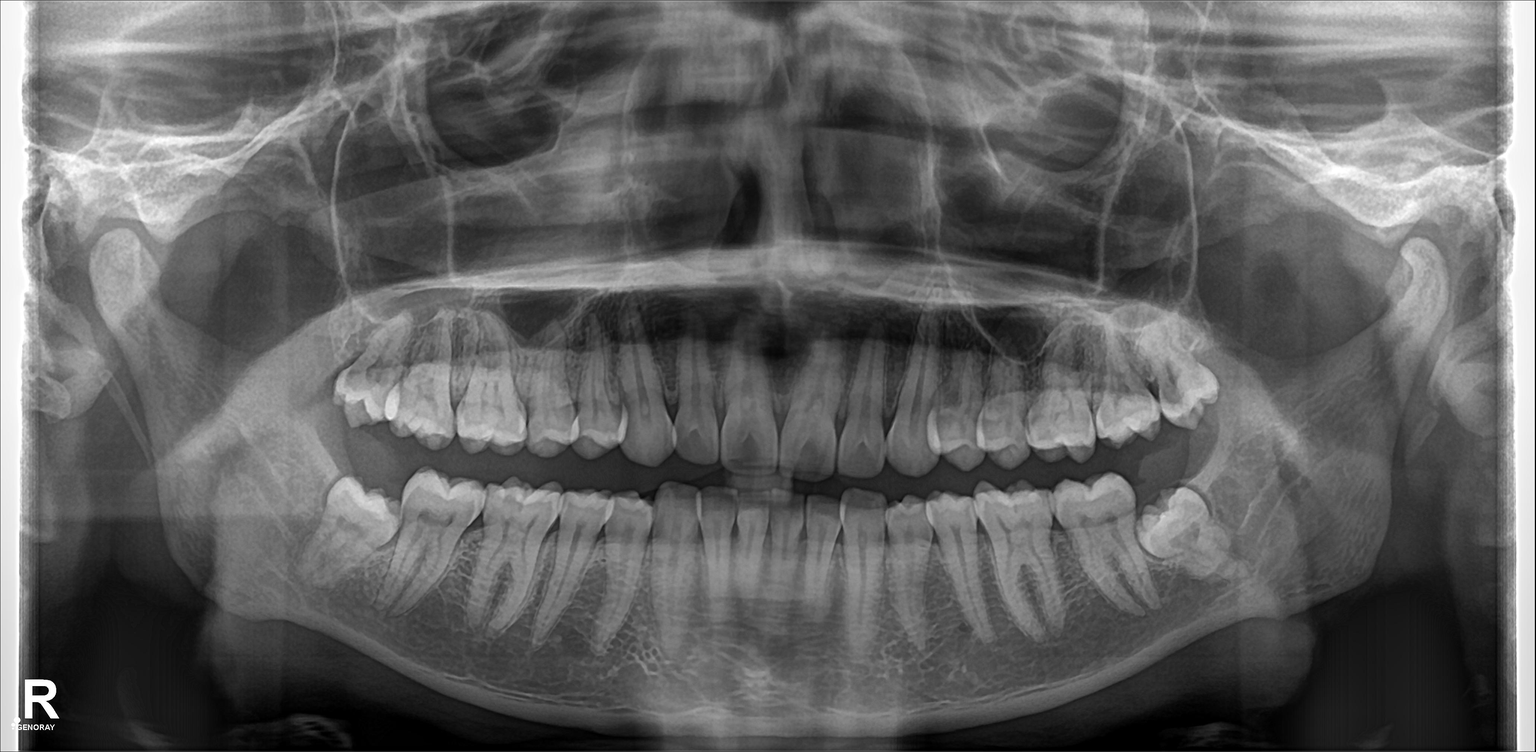Dental Caries: (1158, 359, 1199, 408)
Impacted Third Molar: (309, 467, 390, 605), (1142, 491, 1219, 584)
